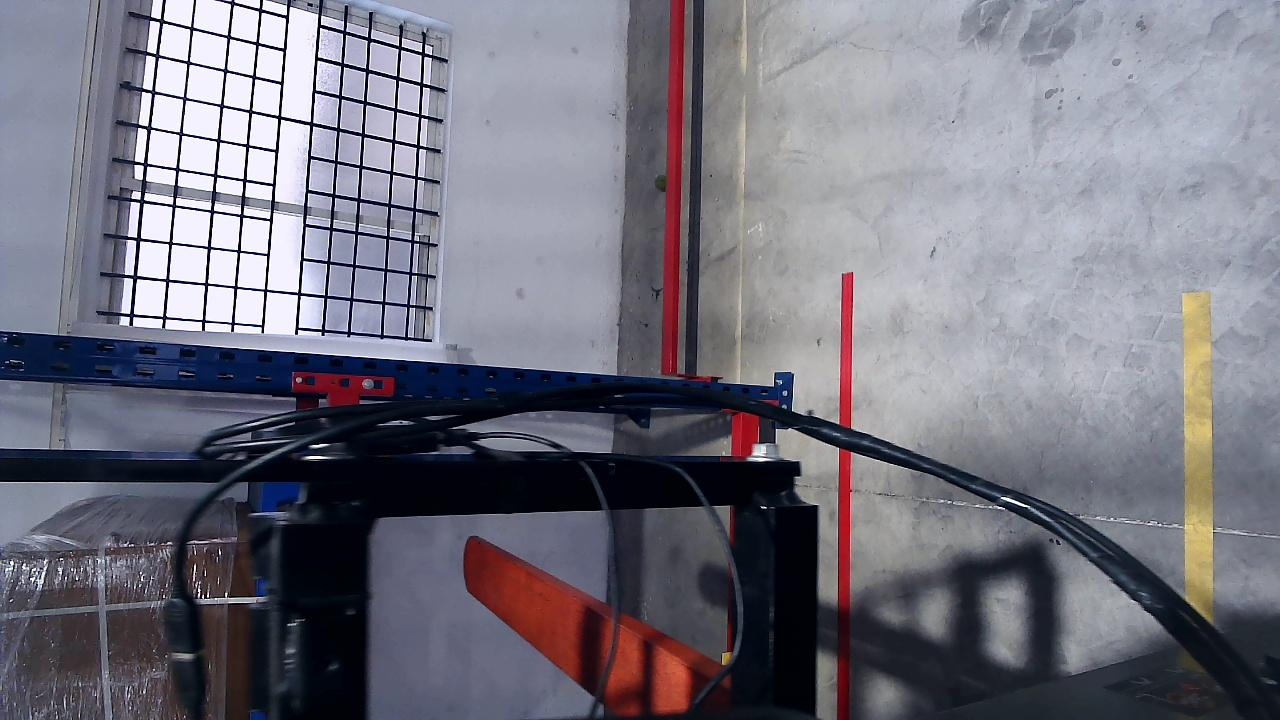red_line: (838, 272, 855, 720)
yellow_line: (1182, 297, 1215, 633)
